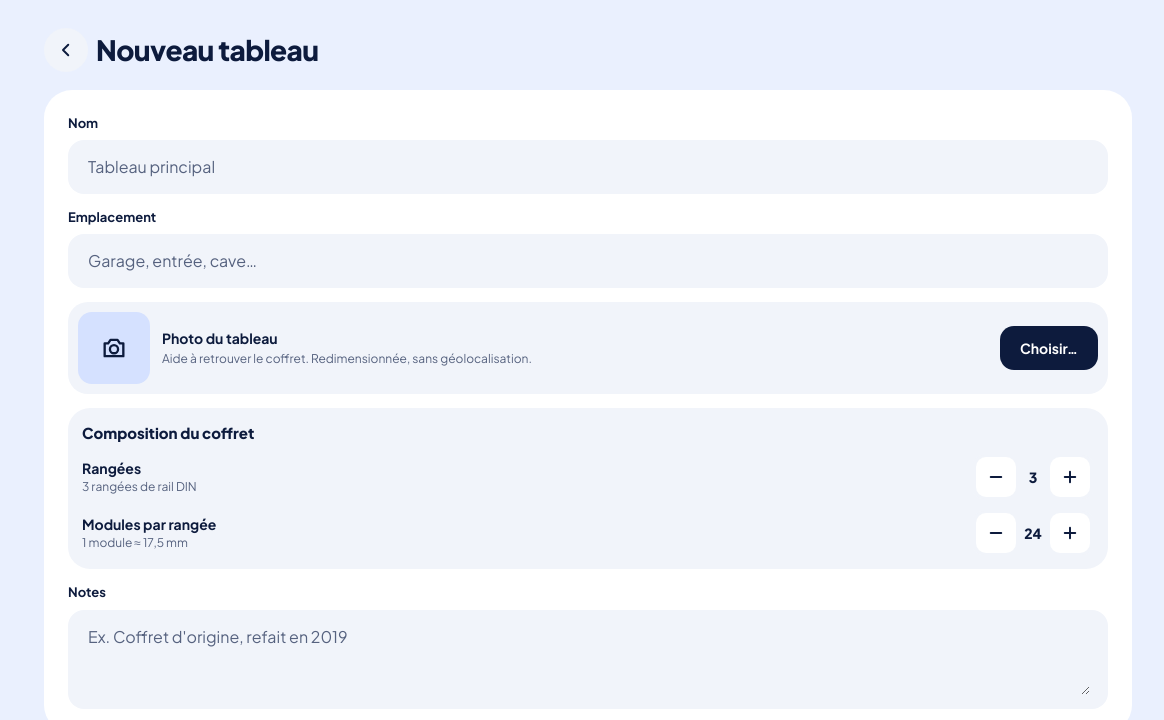
création › exige un nom
Click the field labelled "Nom" at (588, 167), box [86,155,1090,179]
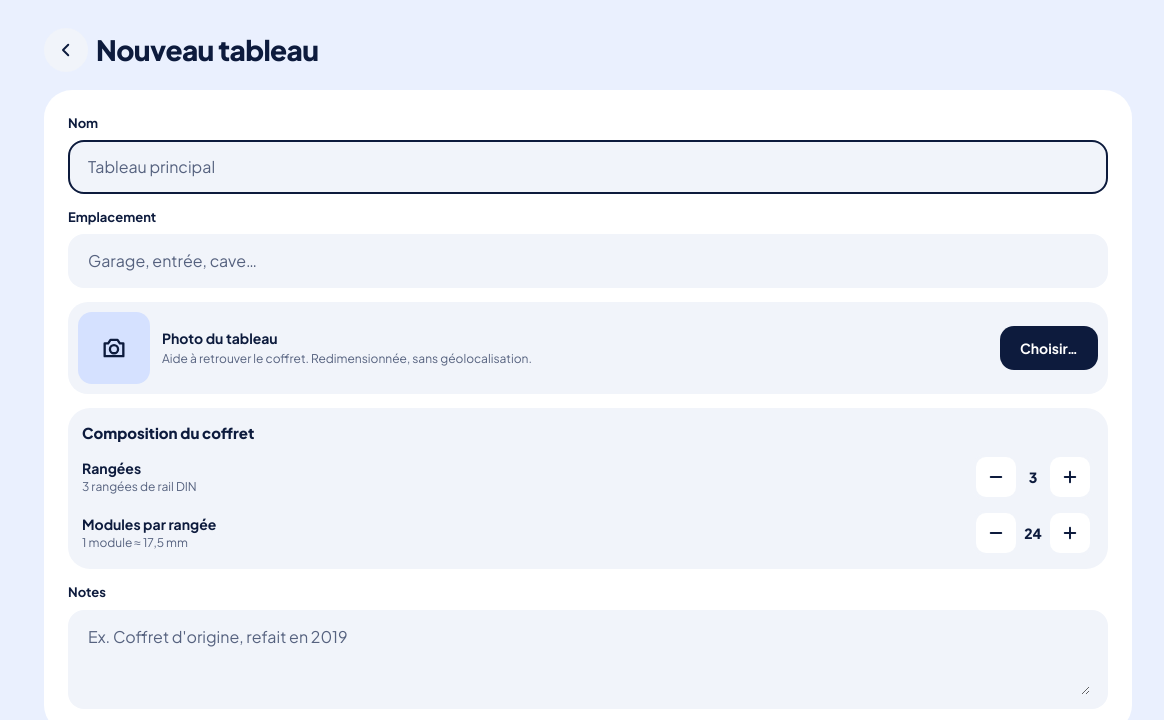
Press Tab
(page scrolled)
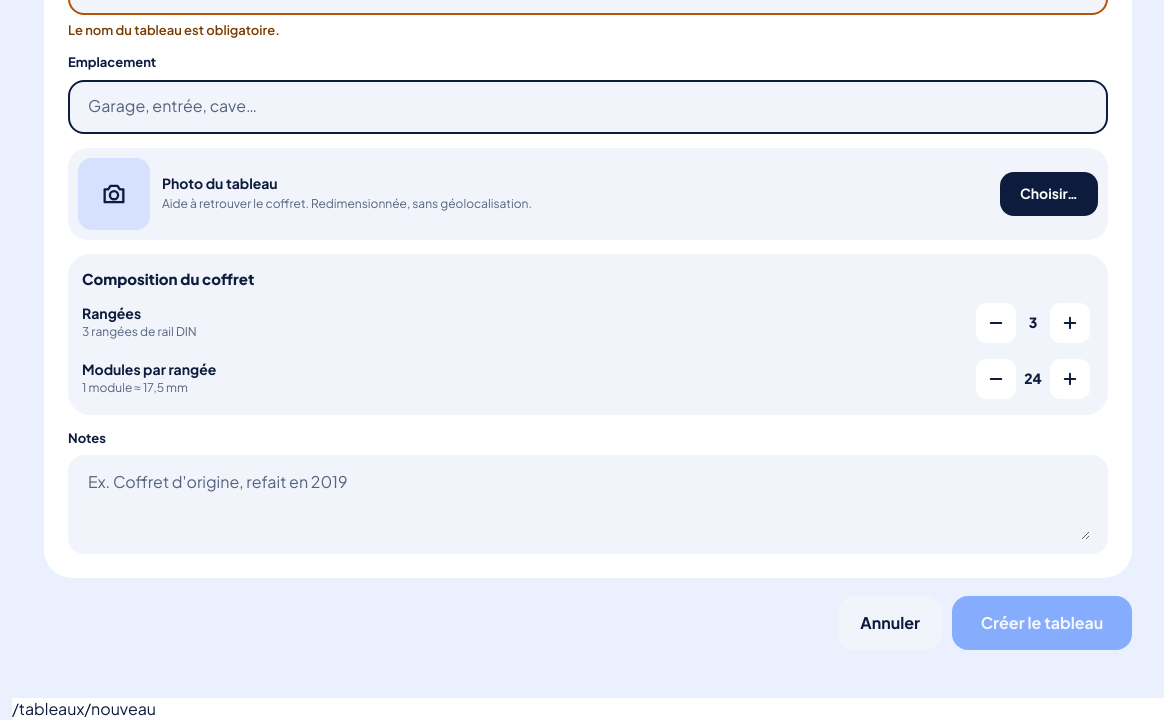
Expected: the button "Créer le tableau" is disabled, [952,596,1132,650]
Now the text "Le nom du tableau est obligatoire." is shown, box [68,22,280,38]
